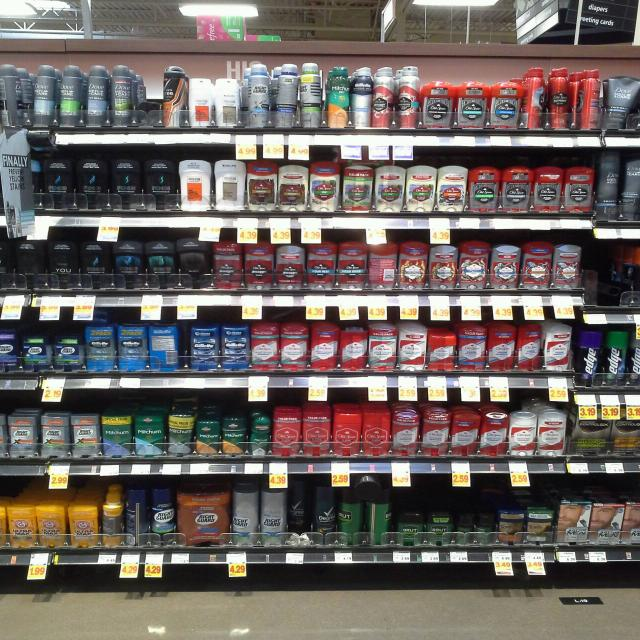unorganised: (605, 75, 640, 130), (147, 319, 183, 369), (287, 476, 312, 532), (517, 319, 543, 368)
